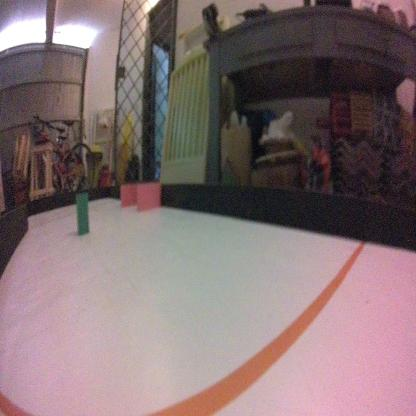green: (74, 192, 90, 234)
magenta: (132, 179, 162, 217), (119, 179, 140, 207)
